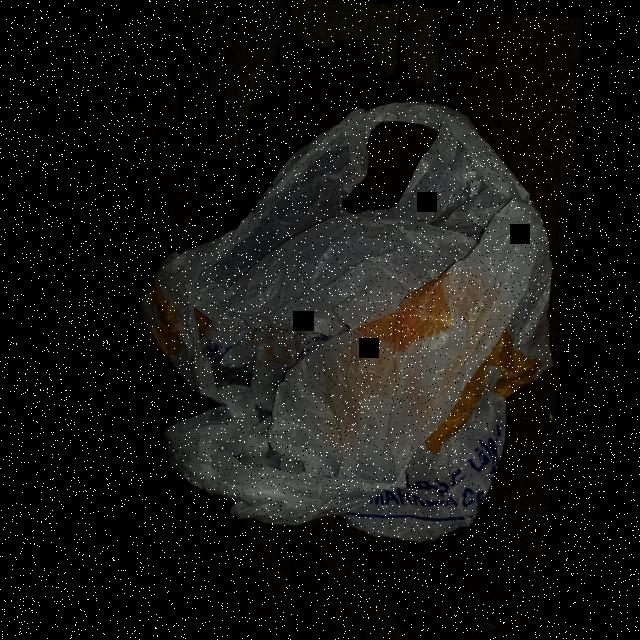plastic_bag: (104, 74, 576, 564)
